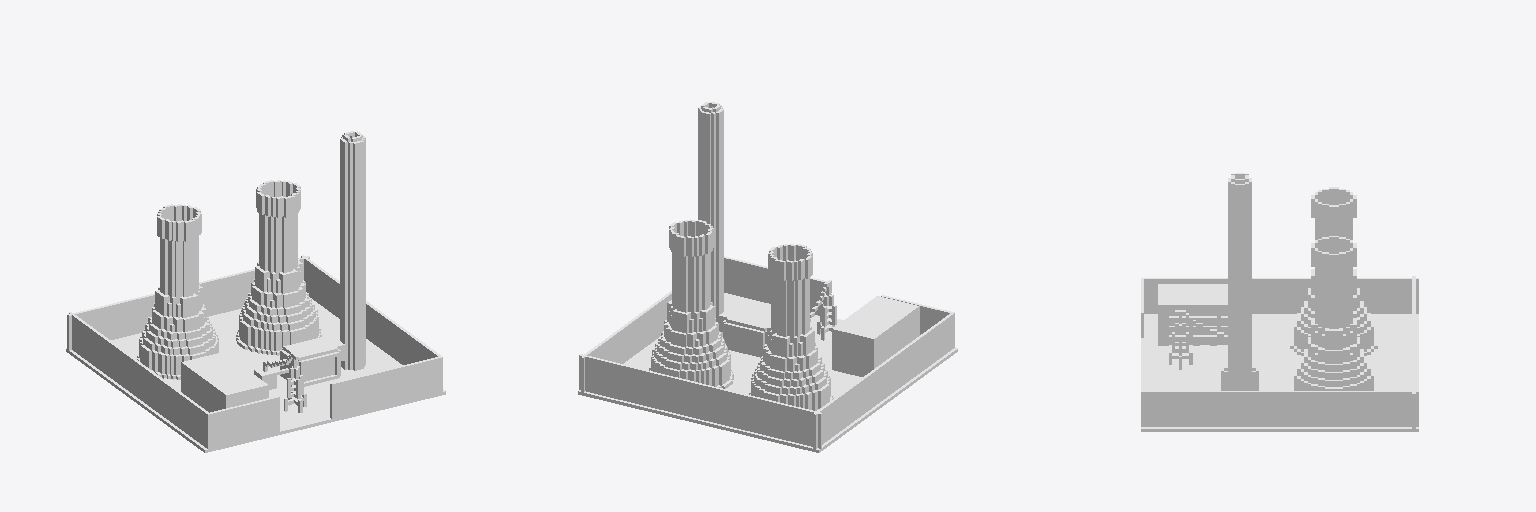
The model's file is coalPowerPlant.obj.
The picture shows the model from 3 angles: view 1: azimuth 30°, elevation 25°; view 2: azimuth 150°, elevation 25°; view 3: azimuth 270°, elevation 25°; orthographic projection.
Visible parts, largest first — view 1: object 1; view 2: object 1; view 3: object 1.
Boxes of the visible parts, x1=… form: object 1: x1=66, y1=131, x2=445, y2=452; object 1: x1=578, y1=102, x2=957, y2=452; object 1: x1=1141, y1=173, x2=1418, y2=431.
Size of the model in its own units: 8 by 7.4 by 8.